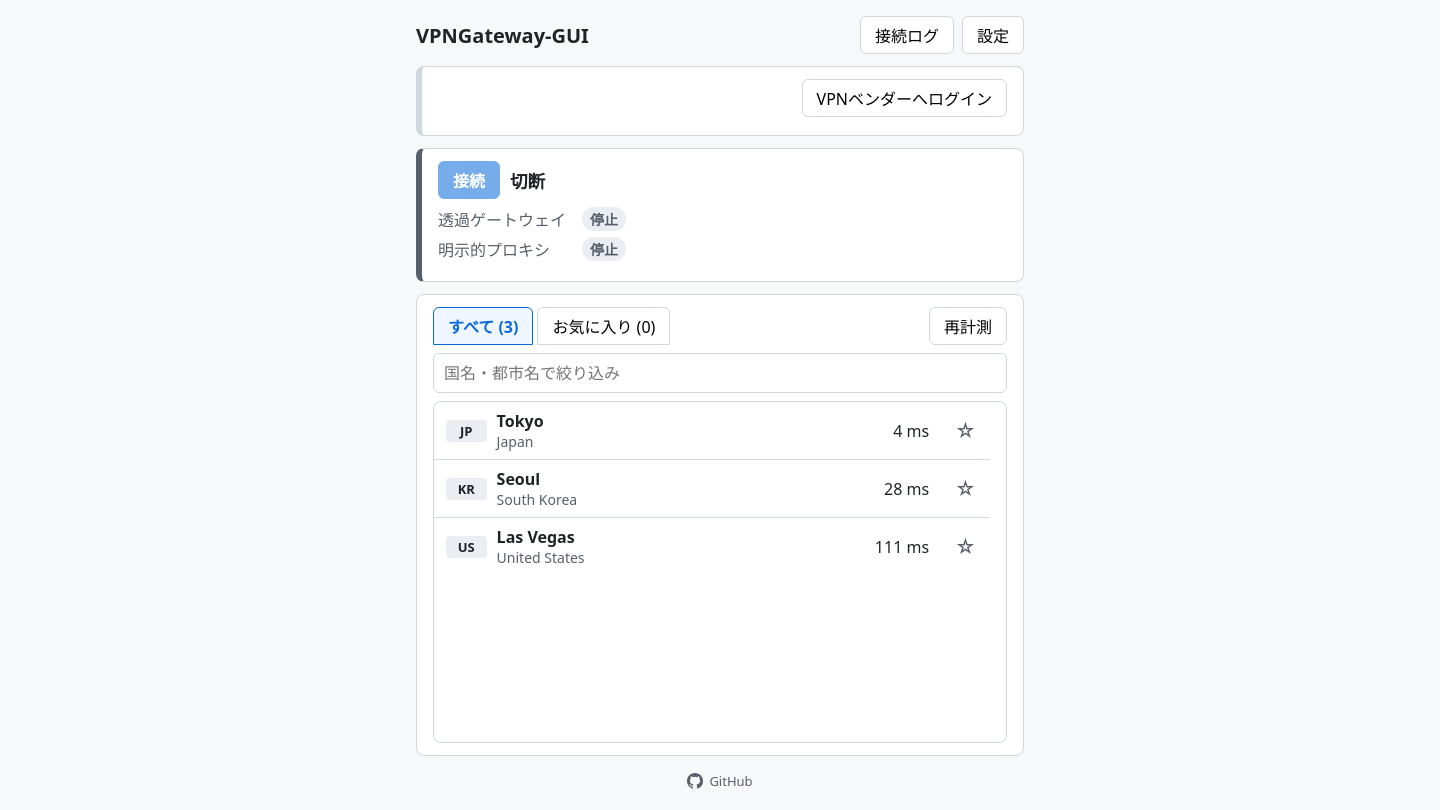
Test: App › 422は要約をトースト表示し、stderrは折りたたみの詳細に入る
Expected: the text "切断" is shown, [510, 168, 545, 192]
What coordinates should you click on to do the following:
click the radio button labelled "US Las Vegas United States 111 ms"
I would click on:
 (466, 546)
Its box is [434, 518, 941, 575].
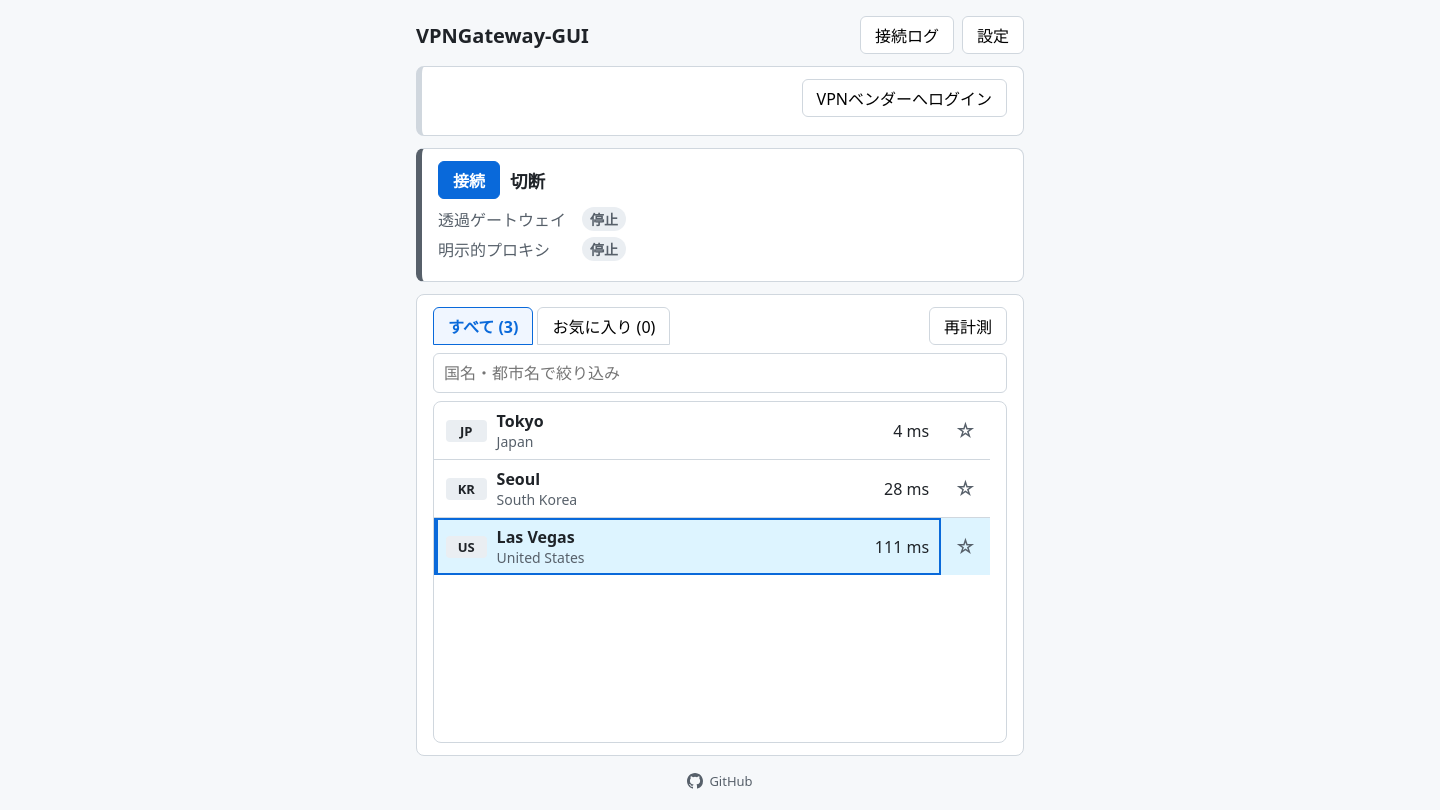
What coordinates should you click on to do the following:
click the button "接続"
I would click on:
 (469, 180)
Its box is [438, 161, 500, 199].
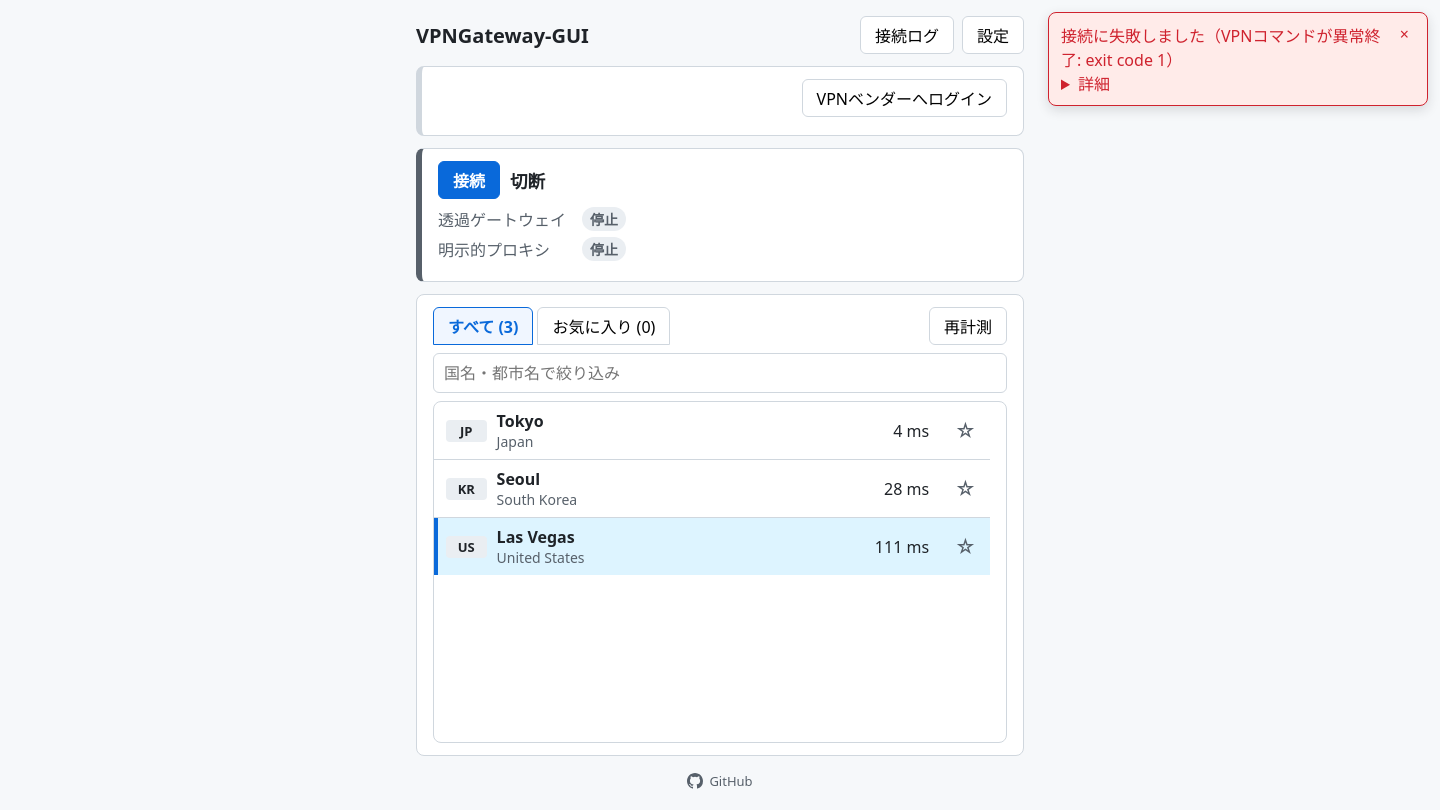
Result: the message shows "接続に失敗しました（VPNコマンドが異常終了: exit code 1）" at [1061, 25, 1380, 71]
